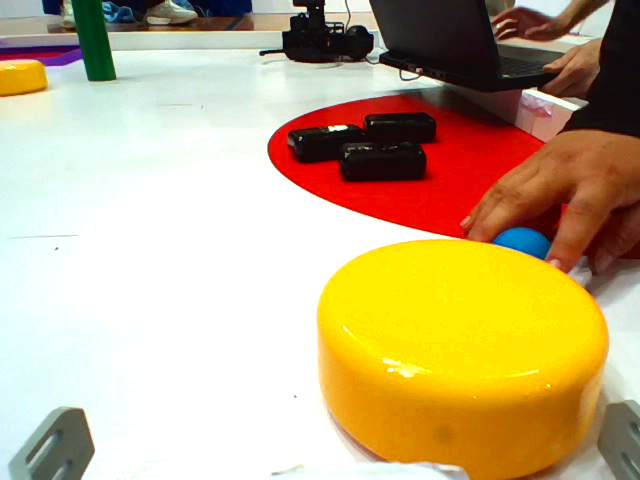black: (327, 142, 443, 183), (277, 124, 368, 160), (364, 108, 441, 139)
blue: (478, 215, 573, 282)
kuang: (1, 41, 87, 69)
yellow: (300, 238, 615, 475), (1, 59, 56, 95)
zhuzi: (64, 1, 120, 87)
